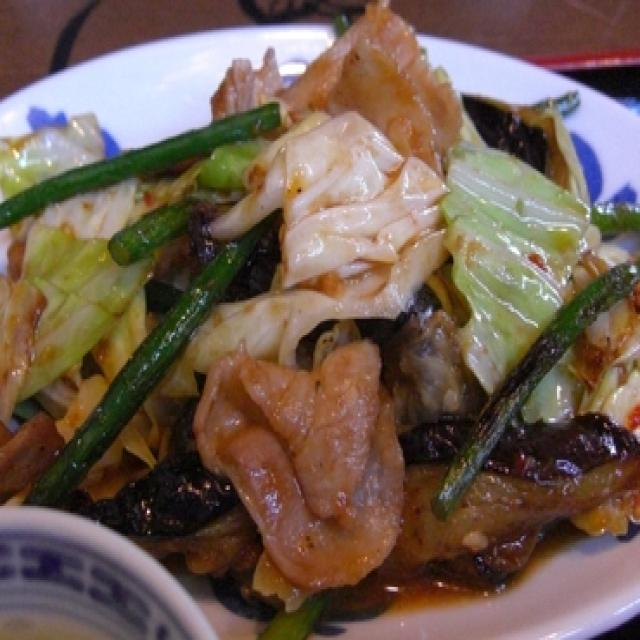鸡蛋料理: (0, 11, 640, 640)
